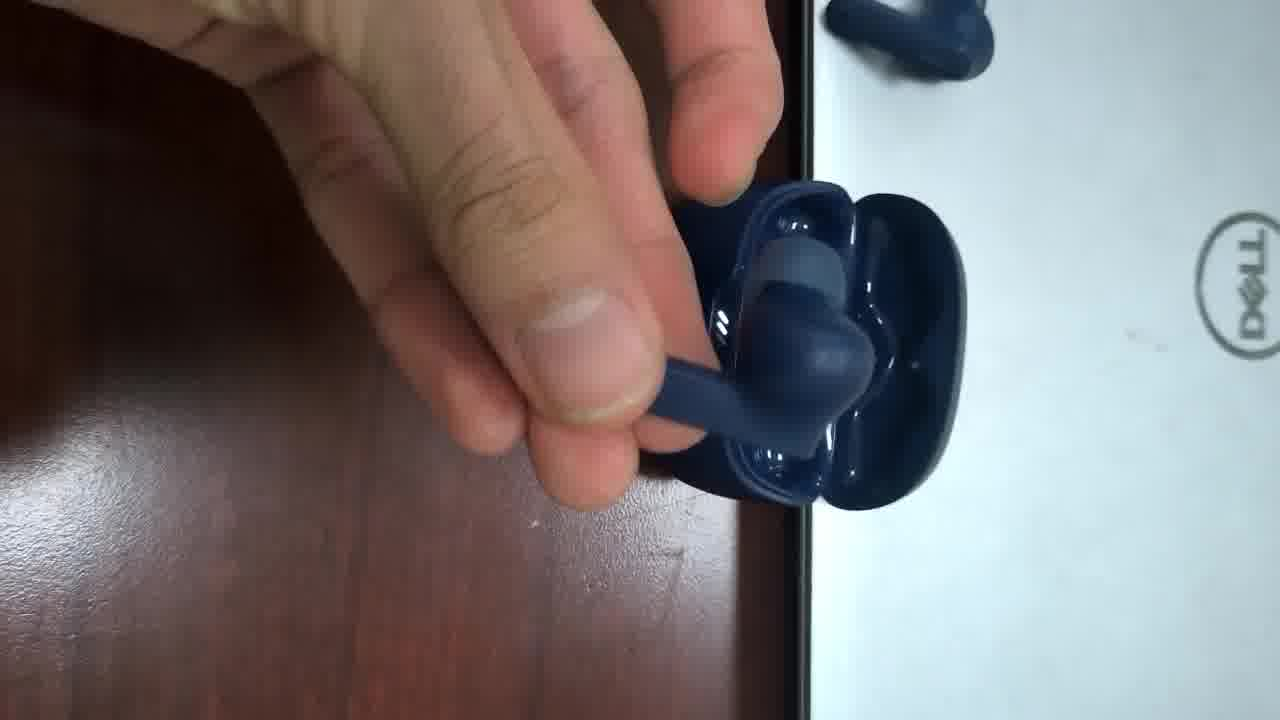Earbud: (649, 235, 874, 456), (824, 0, 993, 79)
